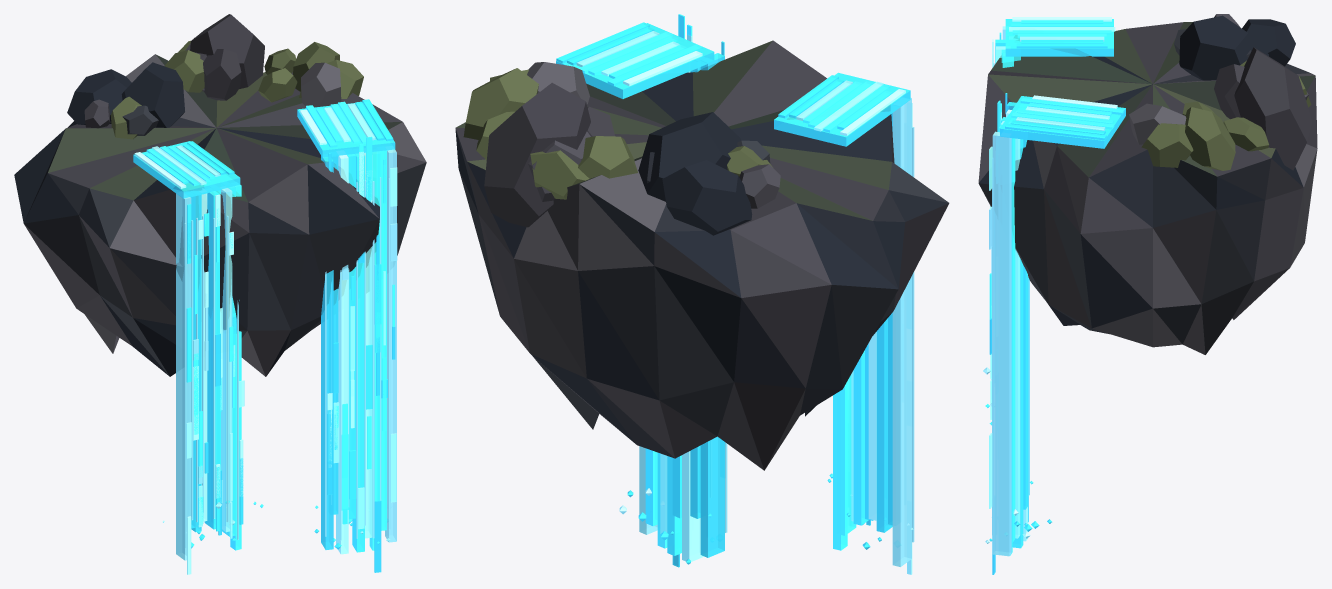
The picture shows the model from 3 angles, left to right: view 1: azimuth 30°, elevation 25°; view 2: azimuth 150°, elevation 25°; view 3: azimuth 270°, elevation 25°; orthographic projection. The views are drawn at different scales.
Visible parts, largest first — view 1: Low-poly waterfall; view 2: Low-poly waterfall; view 3: Low-poly waterfall.
Part boxes in pixels (box(x1,y1,x2,y2)): Low-poly waterfall: box(14, 14, 426, 574); Low-poly waterfall: box(455, 14, 949, 574); Low-poly waterfall: box(978, 14, 1317, 574).
Size of the model in its own units: 3.48 by 4.47 by 2.69.
